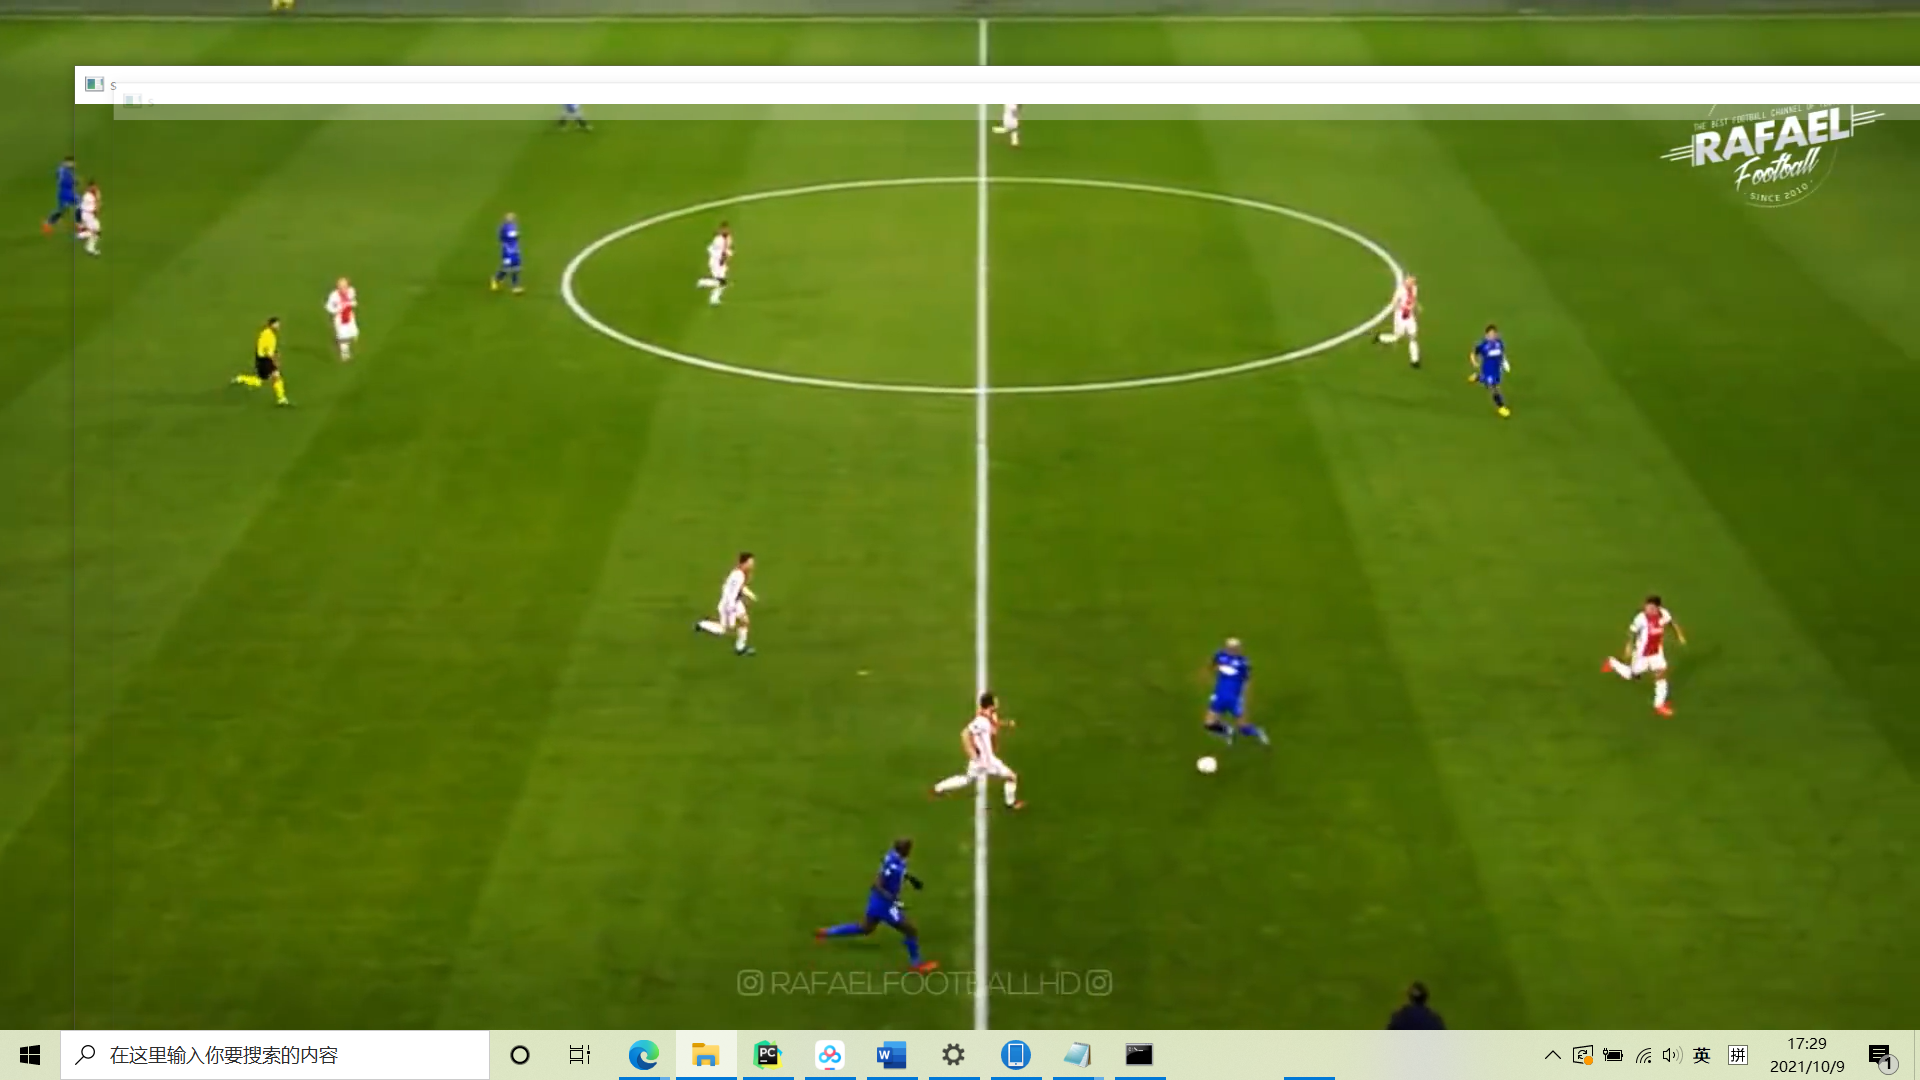ft: (1193, 753, 1218, 779)
